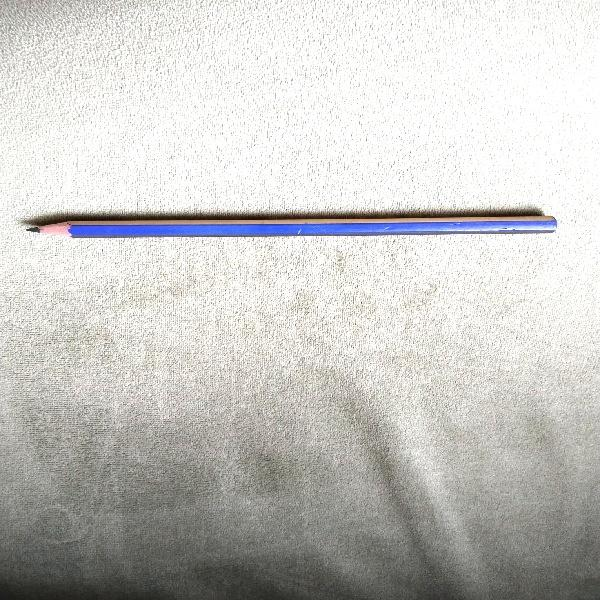pencil: (18, 207, 568, 239)
